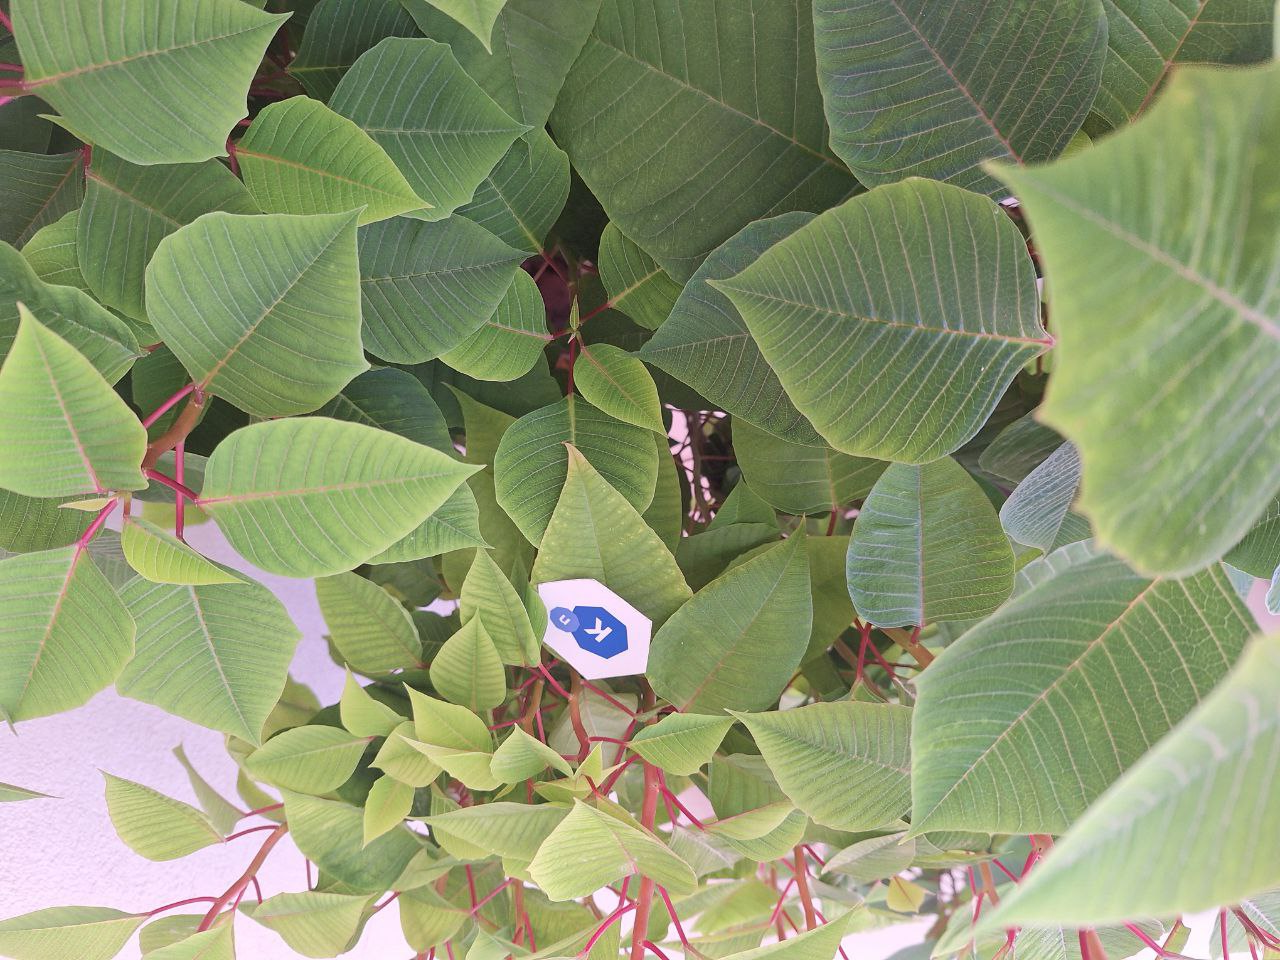knative: (549, 604, 629, 661)
